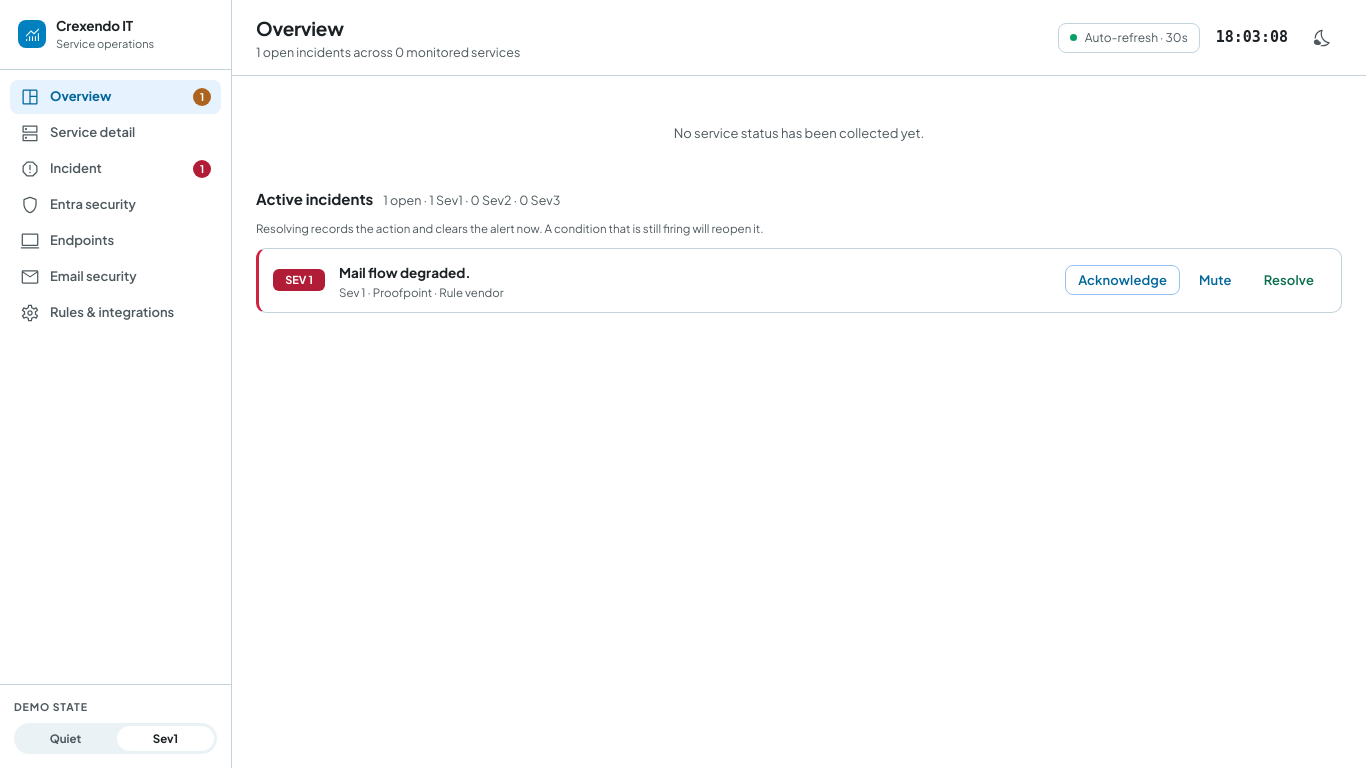
Test: a write that fails does not render as success › refuses to double-submit while a write is in flight
Expected: the element with test id "alert-row" is shown, [256,248,1342,313]
Click the button "Acknowledge": (1123, 280) [1065,265,1180,295]
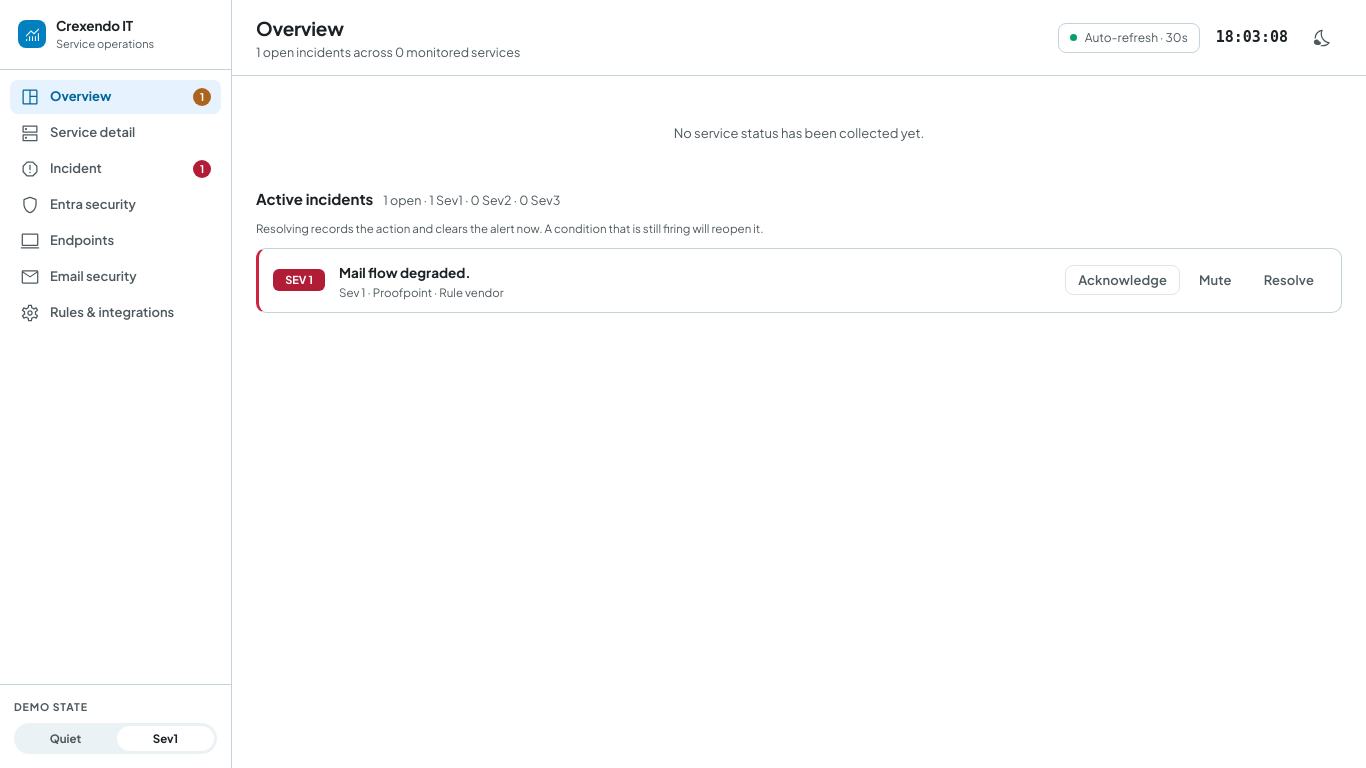
Result: the button "Acknowledge" is disabled at [1065,265,1180,295]
